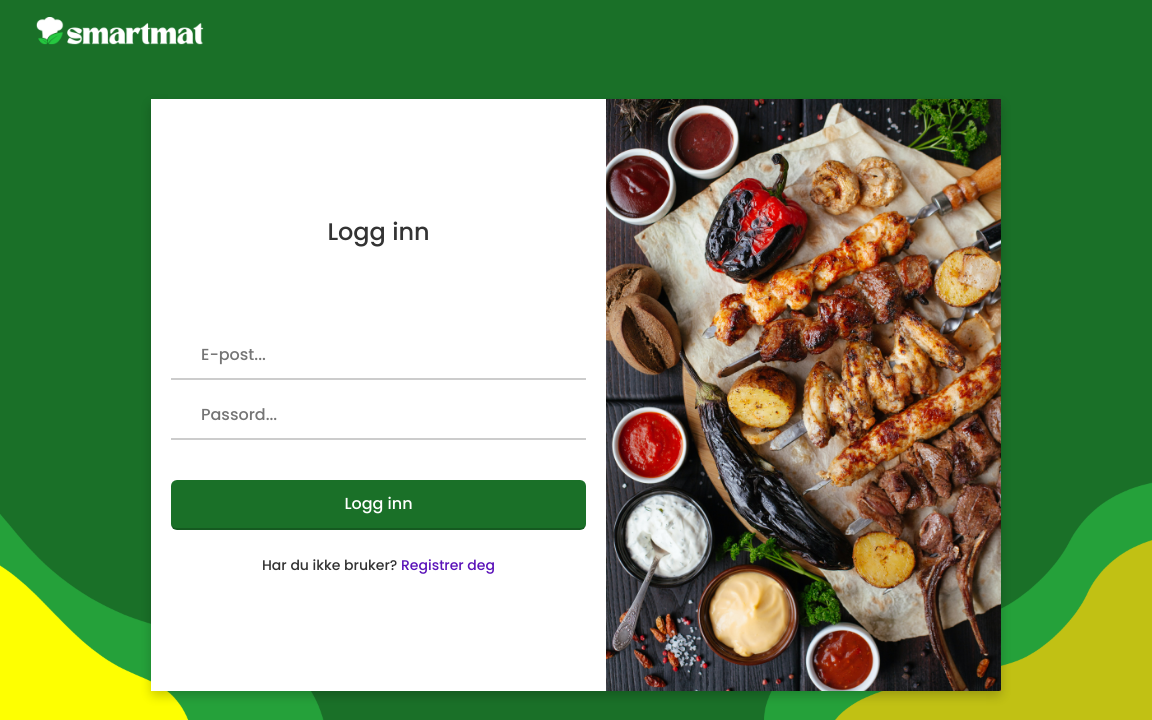
Test: login › Should switch between login and sign up forms
Click the label with test id "switch-to-signup".
click(448, 566)  # box [401,555,495,576]
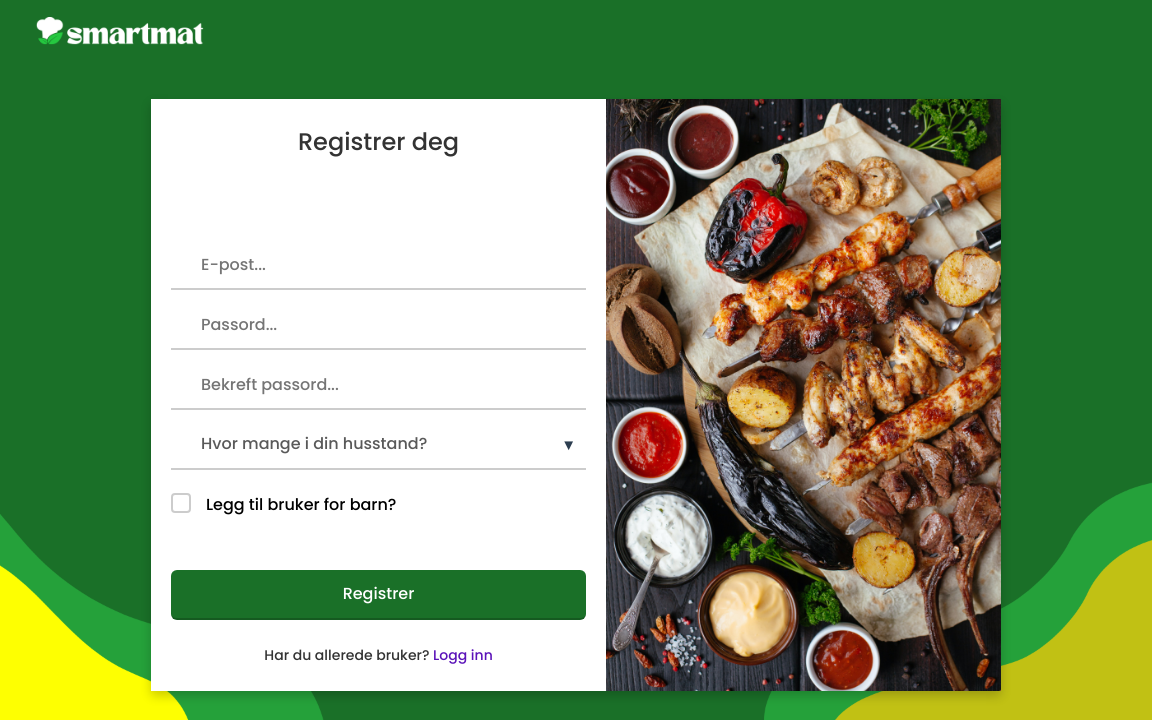
Now the element with test id "login-form-comp" is gone
Now the element with test id "signup-form-comp" is shown, box [171,124,586,666]
Click the label with test id "switch-to-login".
click(463, 656)  # box [433,645,493,666]
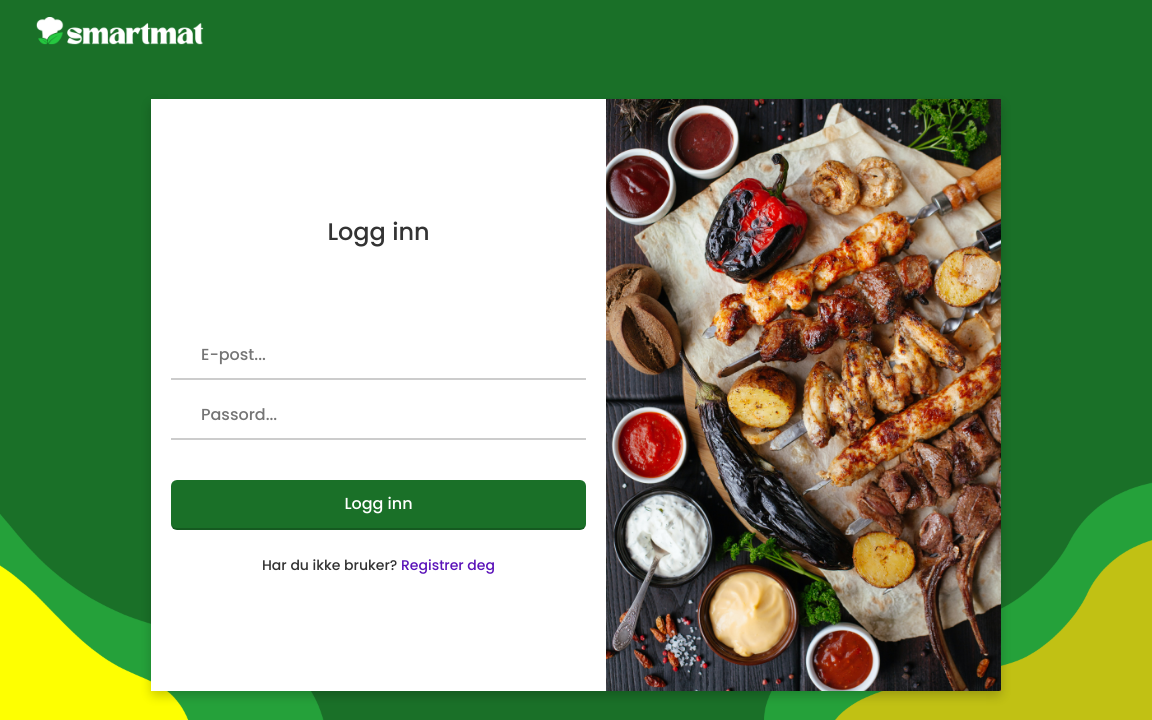
Now the element with test id "login-form-comp" is shown, box [171,214,586,576]
